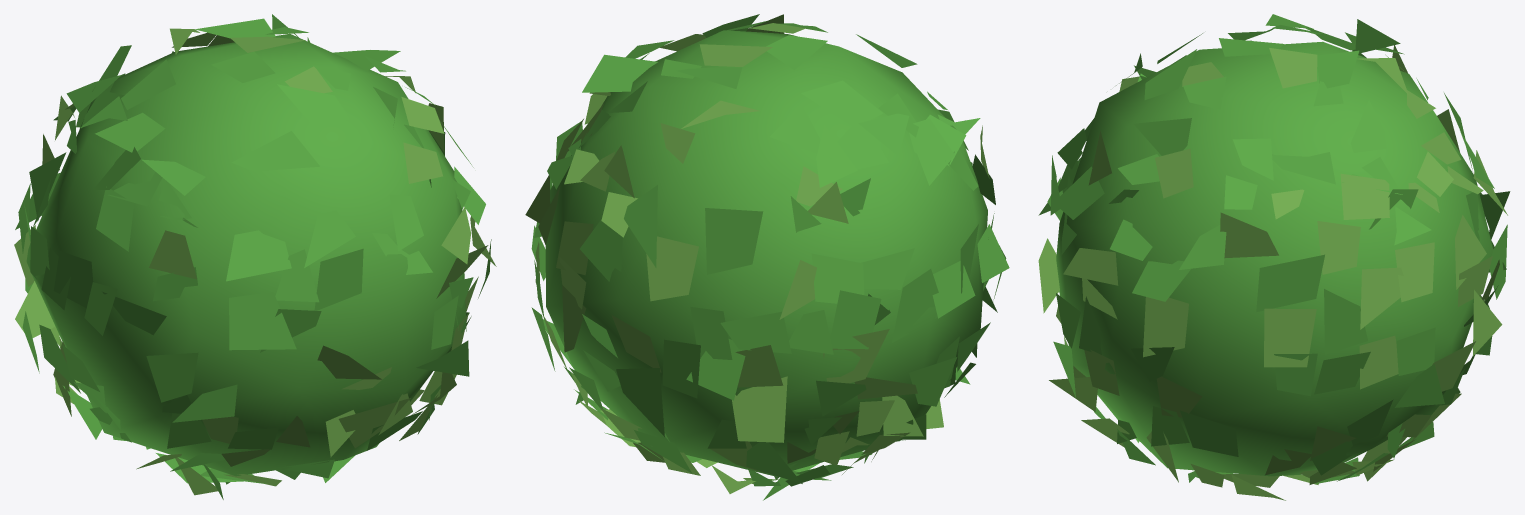
The model's file is bush.glb.
3 views of the same model, side by side, from view 1: azimuth 30°, elevation 25°; view 2: azimuth 150°, elevation 25°; view 3: azimuth 270°, elevation 25° (orthographic).
Parts seen in each view (by area): view 1: Bush; view 2: Bush; view 3: Bush.
Boxes of the visible parts, x1=… form: Bush: x1=14, y1=14, x2=496, y2=499; Bush: x1=525, y1=14, x2=1009, y2=500; Bush: x1=1038, y1=14, x2=1510, y2=500.
Bounding box in the file's own units: 1.84 × 1.8 × 1.81.
